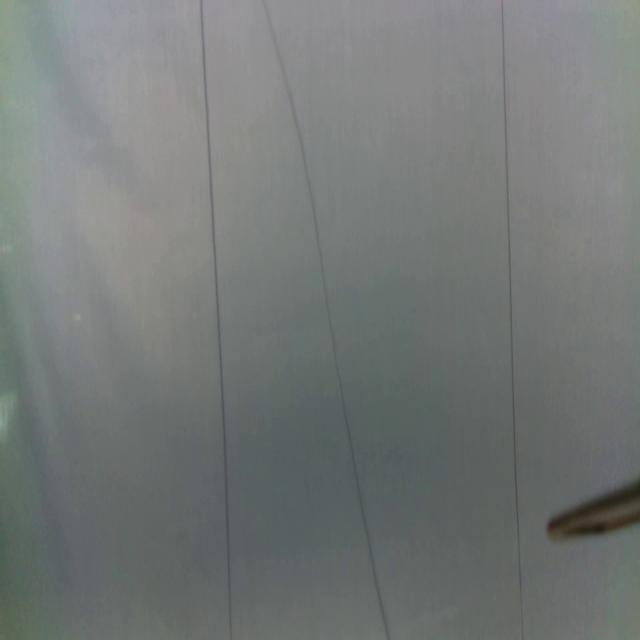crease: (262, 0, 393, 640), (199, 0, 234, 640), (500, 0, 526, 640)
